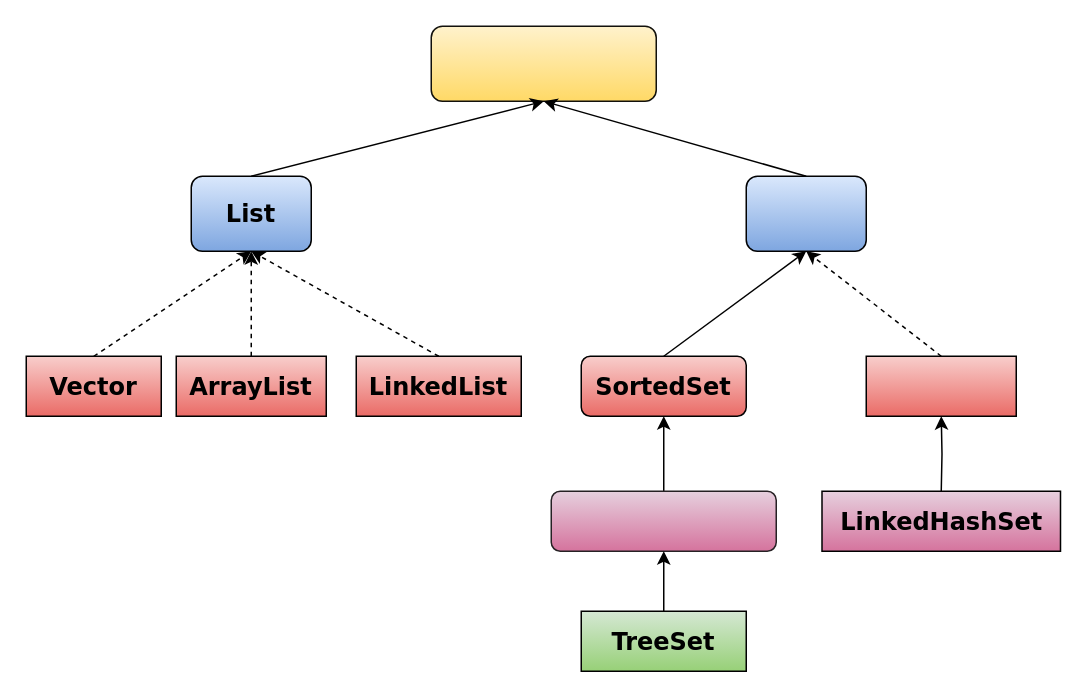
The diagram is 1088 pixels wide and 698 high, and some of its shapes have lost their labels. The shapes that lost their labels are listed below. From the top down, each one's centre as x and y in pixels, then its label:
At pixel 543 63: "Collection".
At pixel 805 213: "Set".
At pixel 940 385: "HashSet".
At pixel 663 520: "NavigableSet".
